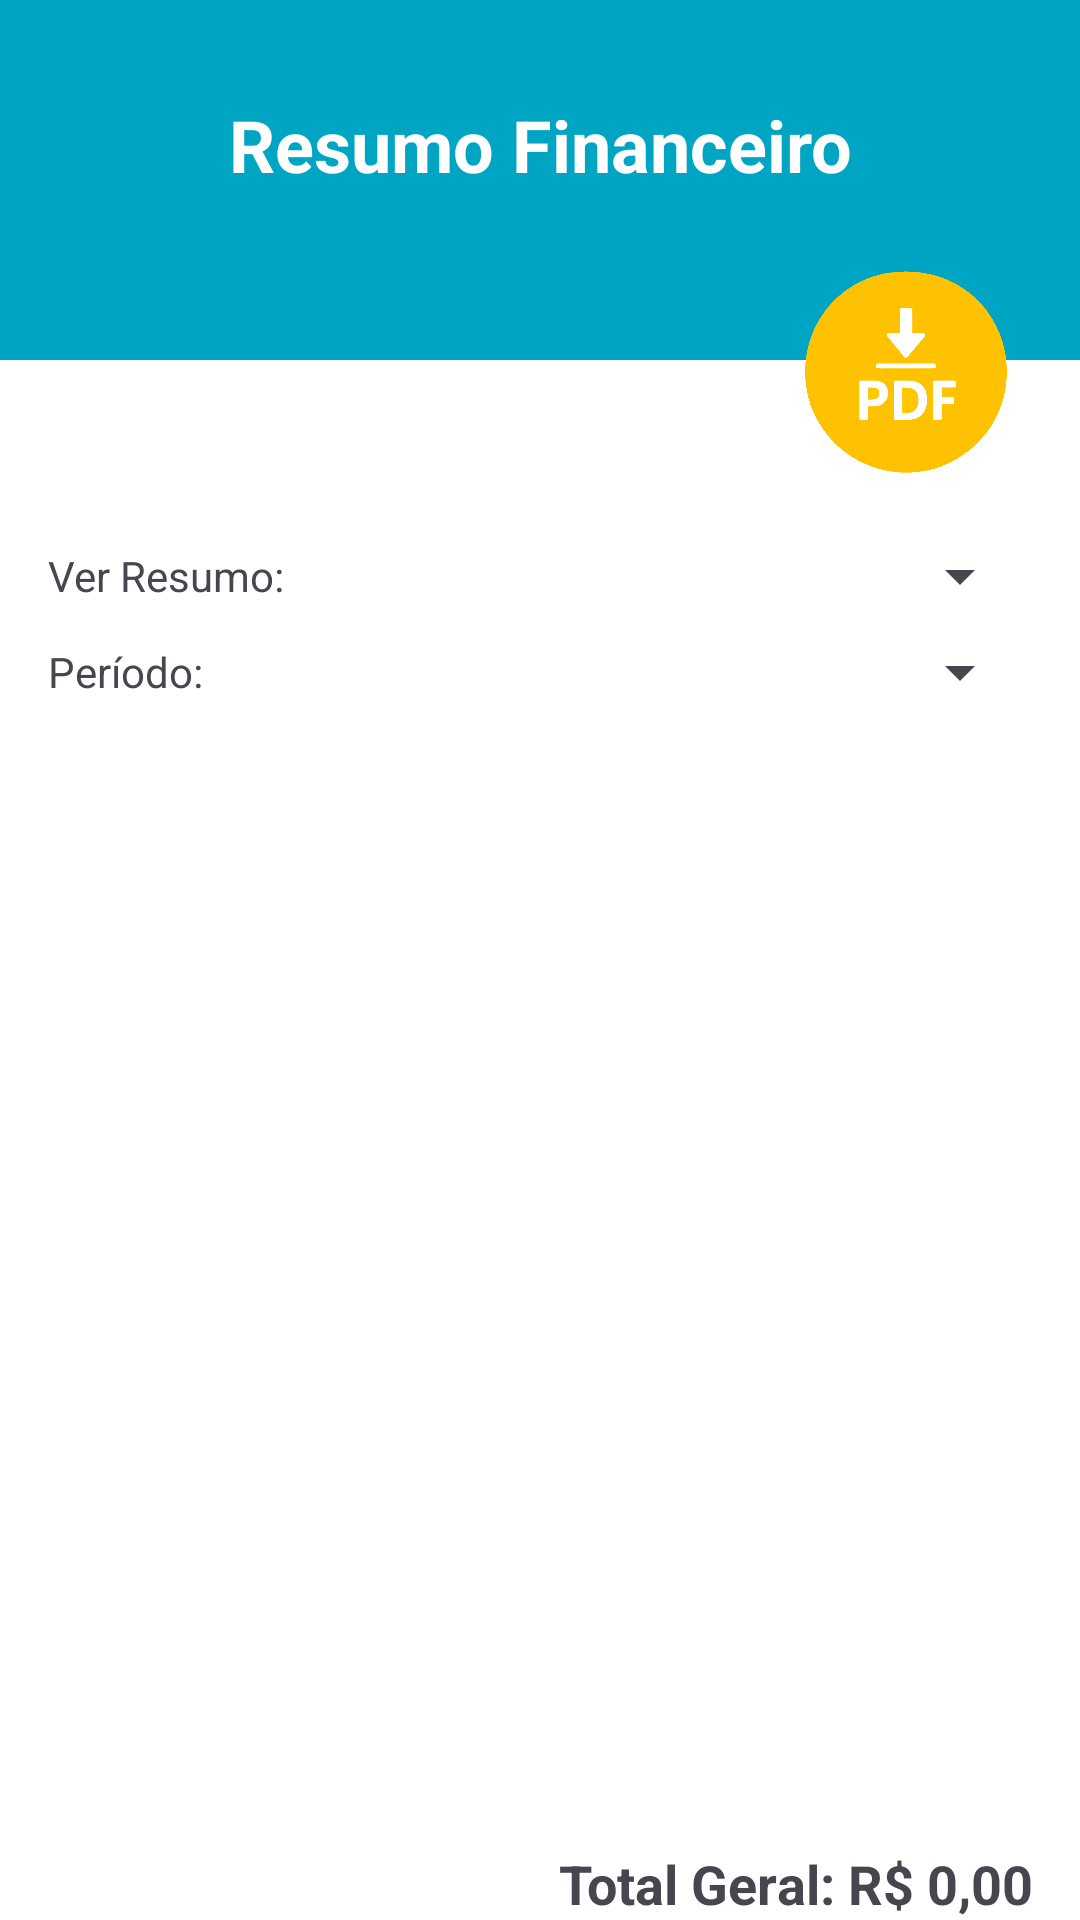

Named icons in this screenshot (1080px x 1920px) and their centers, [x,y]:
Exportar PDF: [906,372]
